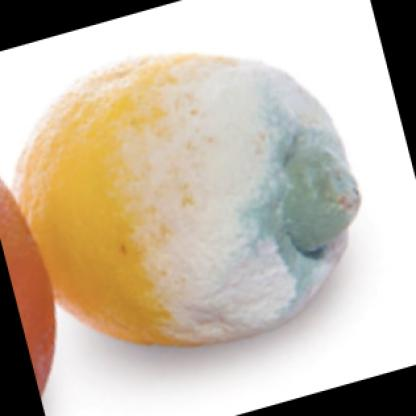rotten_orange: (17, 47, 362, 349)
